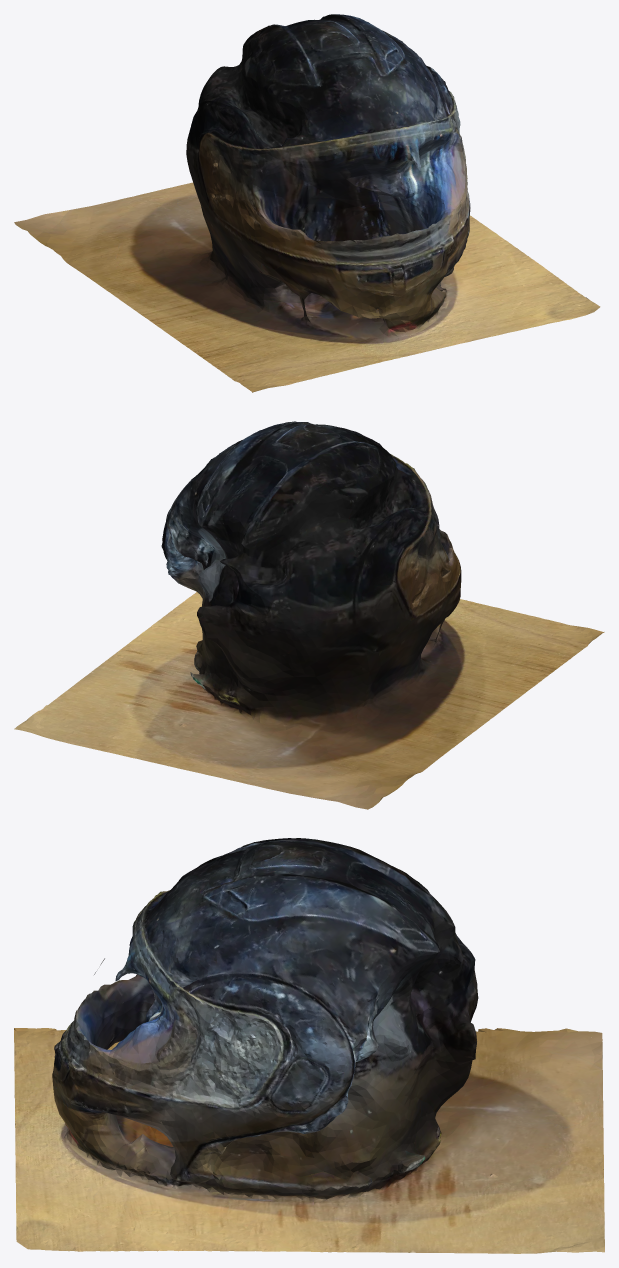
Rendered from zeikin.glb.
The picture shows the model from 3 angles, top to bottom: view 1: azimuth 30°, elevation 25°; view 2: azimuth 150°, elevation 25°; view 3: azimuth 270°, elevation 25°; orthographic projection. The views are drawn at different scales.
Visible parts, largest first — view 1: Mesh_0.007; view 2: Mesh_0.007; view 3: Mesh_0.007.
Part boxes in pixels (<box>): Mesh_0.007: <box>14,14,600,392</box>; Mesh_0.007: <box>14,421,604,809</box>; Mesh_0.007: <box>14,838,604,1253</box>.
Bounding box in the file's own units: 0.9001 × 0.5908 × 1.04.
Materials: 1 (1 with a texture image).
